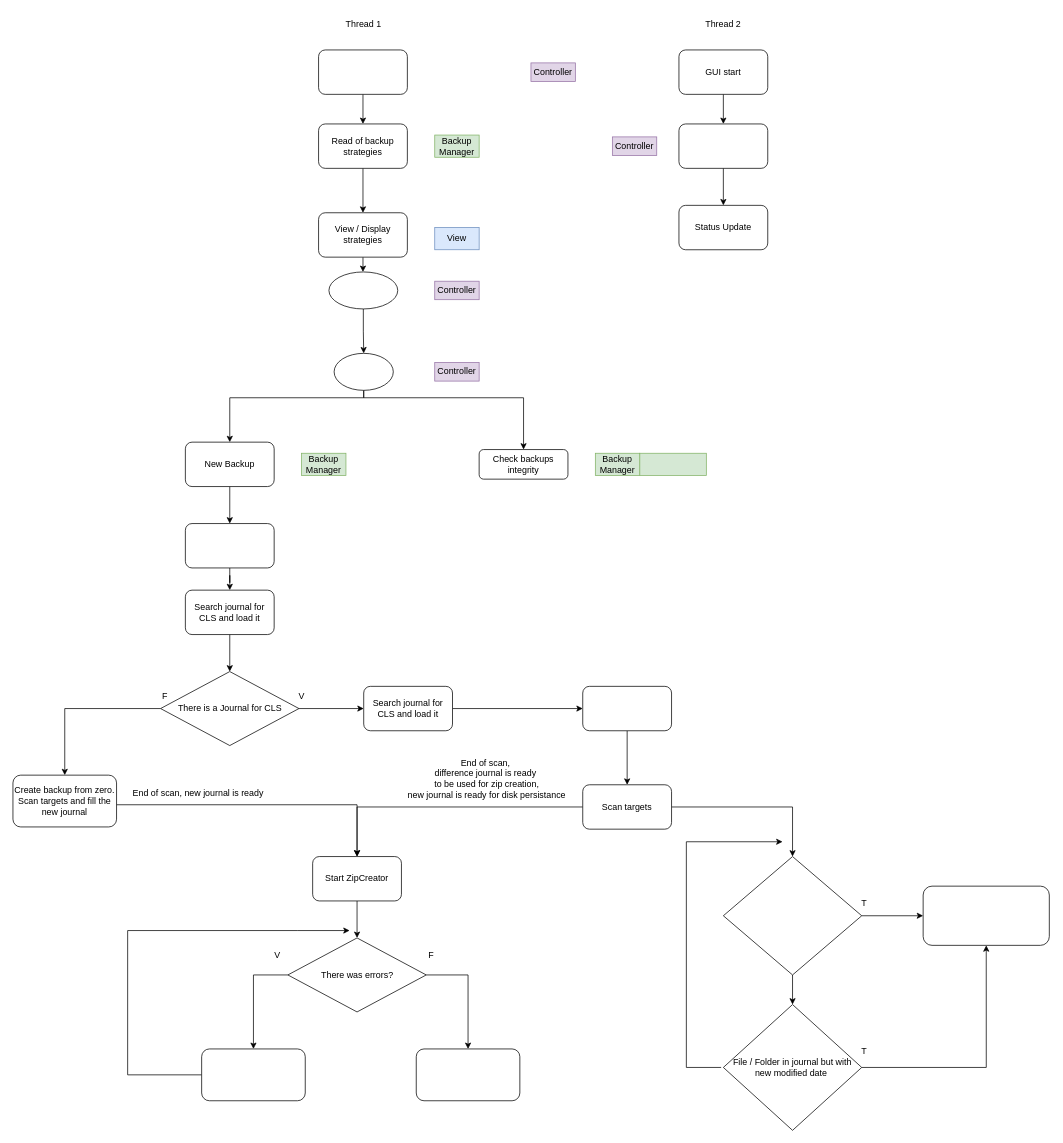
The diagram is 1063 pixels wide and 1143 high, and some of its shapes have lost their labels. Here are the shapes that lost their labels. From the top down, the centre of each, then its label:
the point at 362,71: Read of settings
the point at 723,145: Window shows up
the point at 363,290: User Input Load strategy
the point at 363,371: User Input
the point at 672,464: Integrity Utils
the point at 229,545: Get CLS
the point at 627,708: Fill new journal with loaded journal
the point at 792,915: New file / folder not in old journal
the point at 985,915: Add to difference journal Edit new journal
the point at 253,1074: Notify backup controller and let user decide if they want to continue
the point at 468,1074: Write new journal to disk
